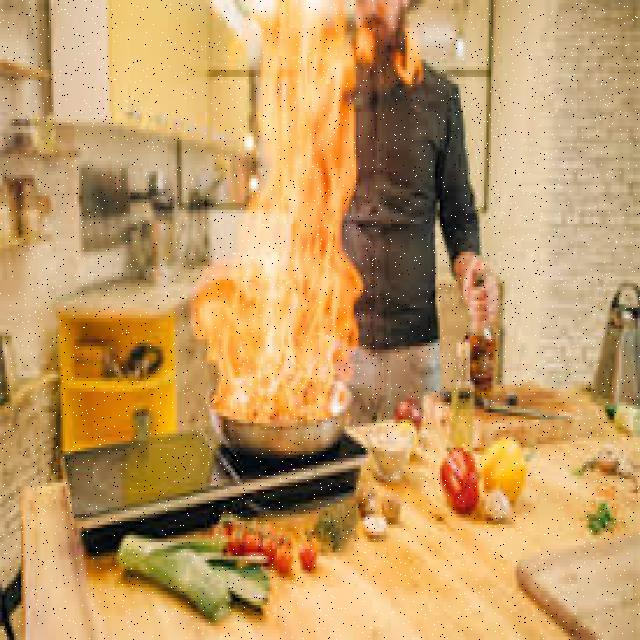fire: (206, 18, 368, 439)
